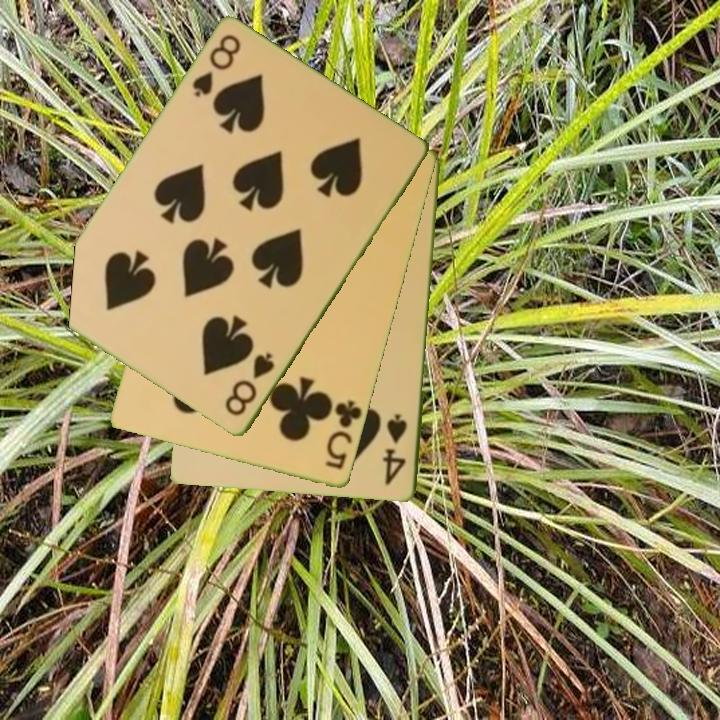4s: (381, 411, 411, 488)
5c: (322, 397, 365, 473)
8s: (221, 349, 278, 420), (188, 31, 244, 101)
